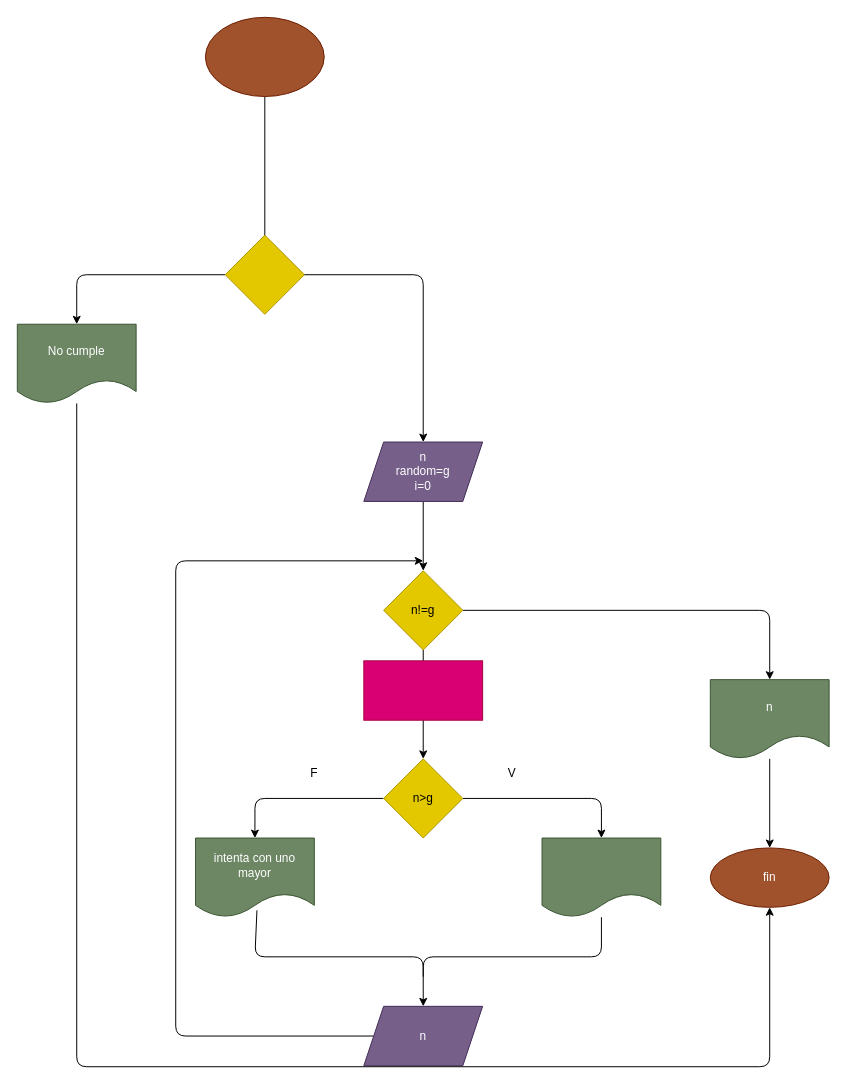
Some shapes in this 846 by 1092 pixel diagram are drawn without their labels. The shapes that lost their labels are listed below. From the top down, each one's centre as x and y in pixels, then its label:
the point at 264,56: inicio
the point at 264,274: n>=0 and n<=1000
the point at 423,690: i=i+1
the point at 601,877: intenta con uno menor.
